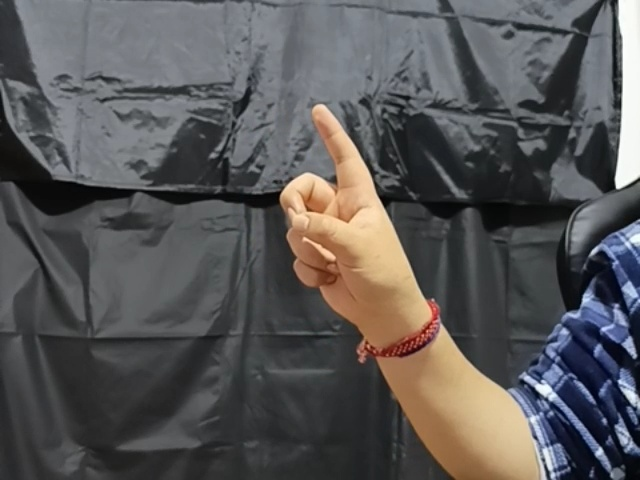D: (270, 101, 433, 321)
